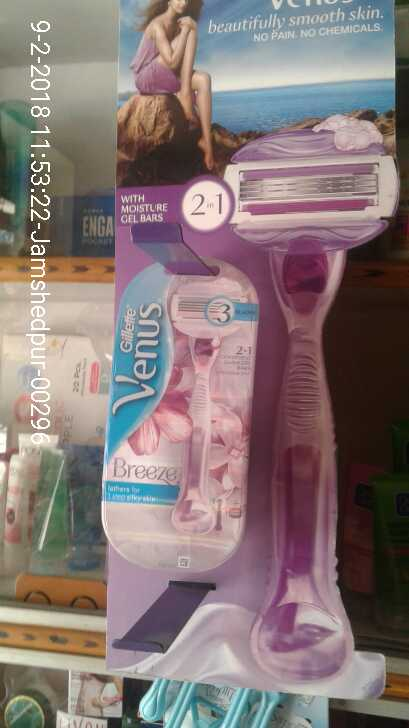venus: (112, 270, 263, 589)
